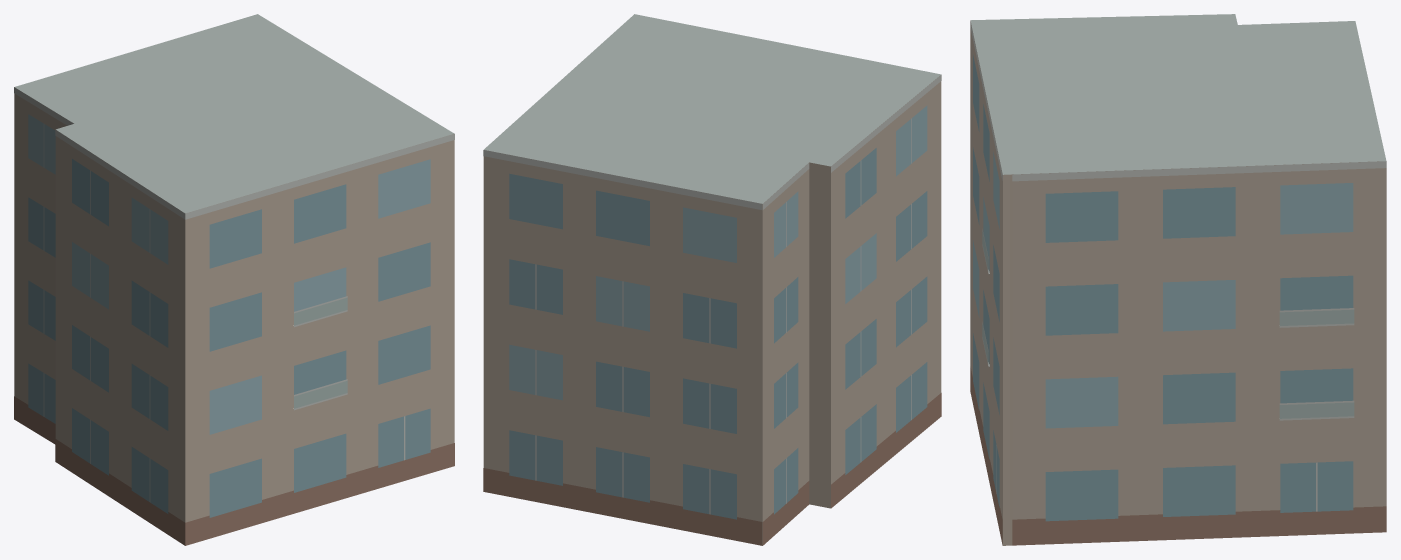
File: survey-upis-32622345.glb
3 views of the same model, side by side, from view 1: azimuth 30°, elevation 25°; view 2: azimuth 150°, elevation 25°; view 3: azimuth 270°, elevation 25° (orthographic). The views are drawn at different scales.
Visible parts, largest first — view 1: survey-upis-32622345.tmp; view 2: survey-upis-32622345.tmp; view 3: survey-upis-32622345.tmp.
Boxes of the visible parts, box(x1,y1,x2,y2) form: survey-upis-32622345.tmp: box(14, 14, 454, 545); survey-upis-32622345.tmp: box(483, 14, 941, 545); survey-upis-32622345.tmp: box(970, 14, 1386, 545).
Bounding box in the file's own units: 12.09 × 13 × 13.22.
